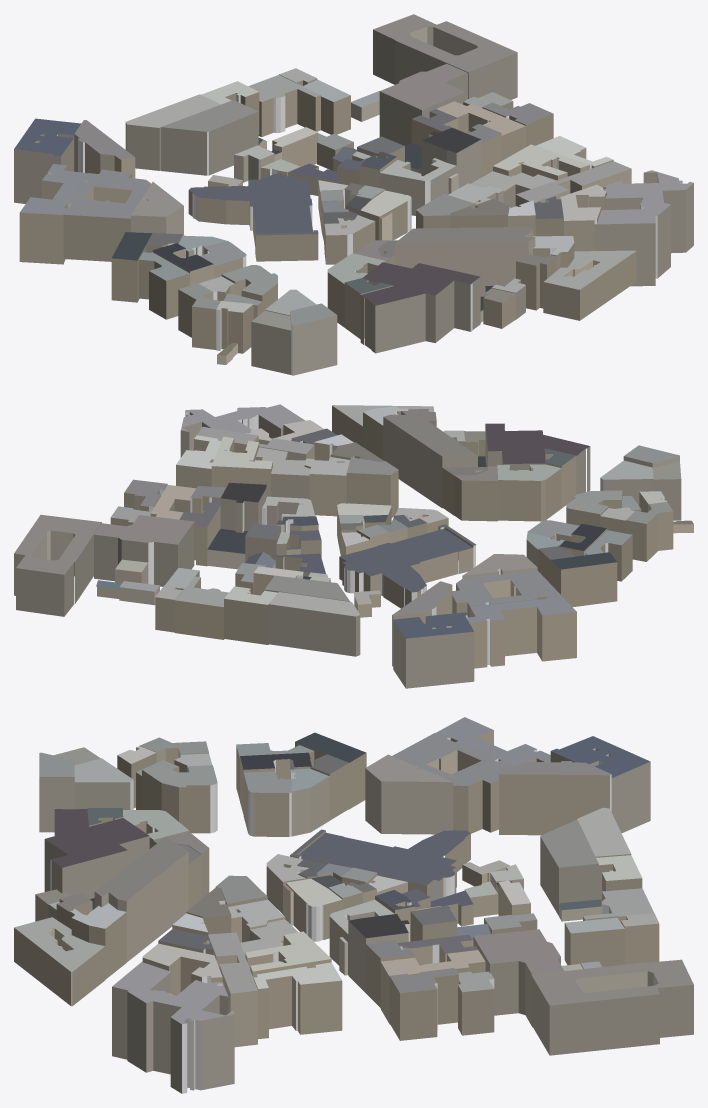
3 renders of one model, top to bottom at view 1: azimuth 30°, elevation 25°; view 2: azimuth 150°, elevation 25°; view 3: azimuth 270°, elevation 25°, orthographic. The views are drawn at different scales.
Parts seen in each view (by area): view 1: tuile; view 2: tuile; view 3: tuile.
Boxes of the visible parts, <box> form: tuile: <box>14,14,693,375</box>; tuile: <box>14,404,693,688</box>; tuile: <box>14,717,693,1093</box>.
Bounding box in the file's own units: 297 × 44.36 × 289.
